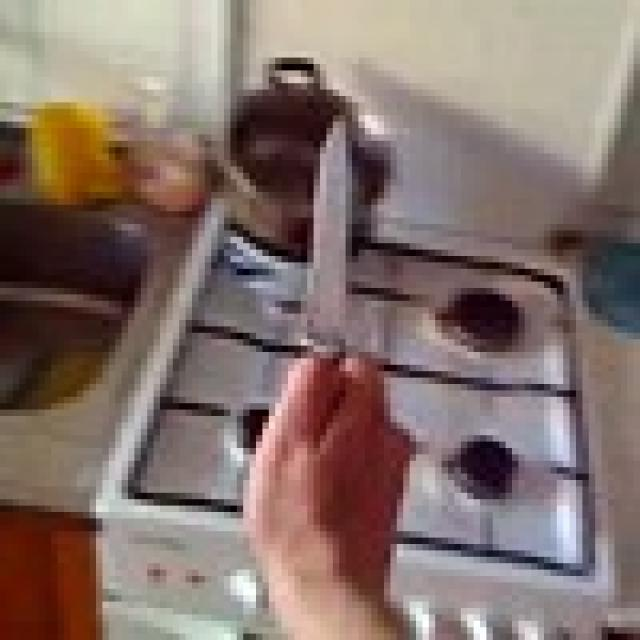Knife_Handle: (244, 116, 417, 590)
